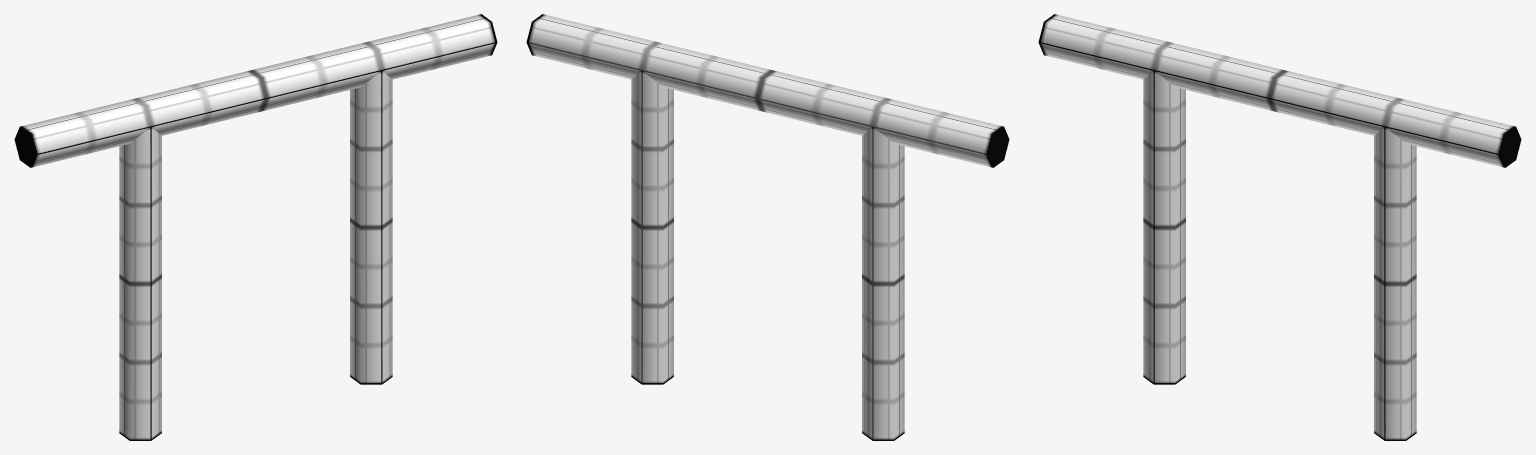
The model's file is fence-1.fbx.
3 renders of one model, left to right at view 1: azimuth 30°, elevation 25°; view 2: azimuth 150°, elevation 25°; view 3: azimuth 330°, elevation 25°, orthographic.
Visible parts, largest first — view 1: Object, Xminus; view 2: Object, Xminus; view 3: Object, Xplus.
Part boxes in pixels (box(x1,y1,x2,y2)): Object: box(20, 14, 497, 440); Xminus: box(14, 127, 35, 167); Object: box(526, 14, 1003, 440); Xminus: box(988, 127, 1009, 167); Object: box(1038, 14, 1515, 440); Xplus: box(1500, 127, 1521, 167).
Size of the model in its own units: 100 by 68.46 by 8.
